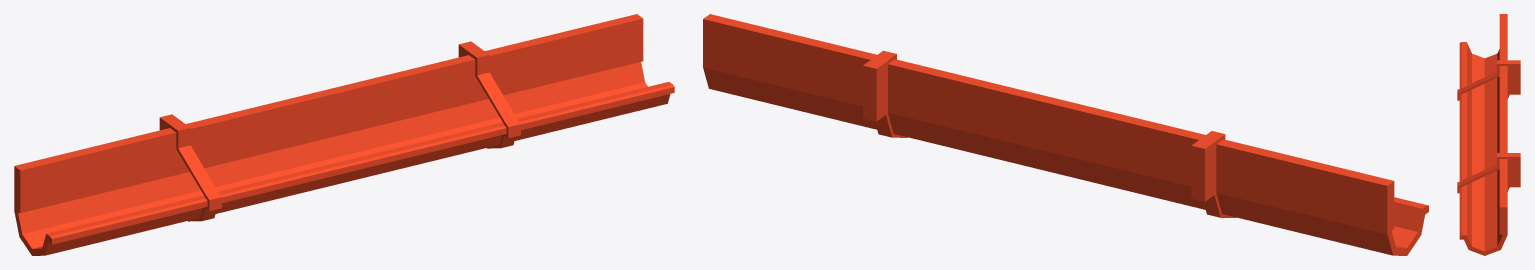
File: SM_Gutter_Moderate_2m.fbx
The picture shows the model from 3 angles, left to right: view 1: azimuth 30°, elevation 25°; view 2: azimuth 150°, elevation 25°; view 3: azimuth 270°, elevation 25°; orthographic projection. The views are drawn at different scales.
Visible parts, largest first — view 1: gutter-moderate-2m; view 2: gutter-moderate-2m; view 3: gutter-moderate-2m.
Boxes of the visible parts, x1,y1,x2,y2 form: gutter-moderate-2m: [14, 14, 674, 255]; gutter-moderate-2m: [703, 14, 1428, 255]; gutter-moderate-2m: [1457, 14, 1520, 255].
Bounding box in the file's own units: 2 × 0.2563 × 0.2766.
